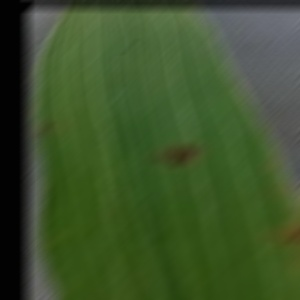Bacterial_Leaf_Blight: (150, 139, 201, 172), (269, 221, 300, 247), (118, 40, 142, 54), (36, 123, 56, 137), (260, 185, 277, 199), (269, 229, 286, 239), (281, 238, 292, 245)
